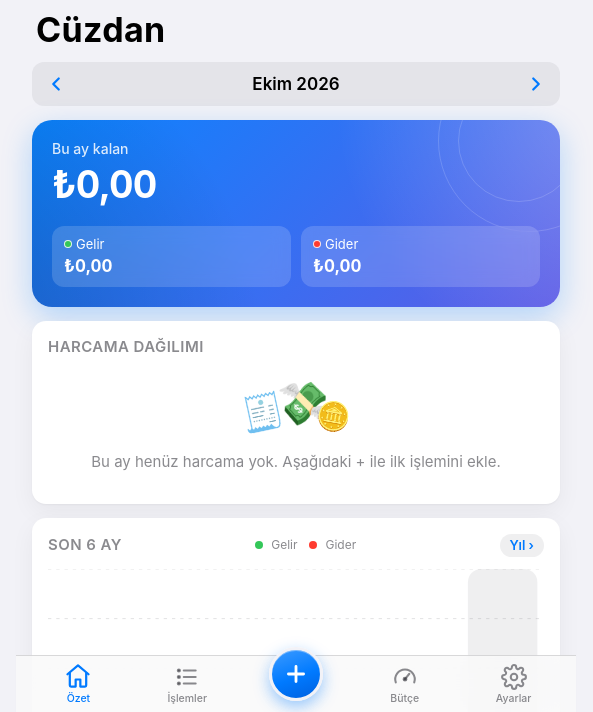
Cüzdan › ileri tarihli işlemi görmek için sonraki aylara geçilebilir
What coordinates should you click on to do the following:
click the button named "Sonraki ay"
I would click on:
 (536, 84)
Its box is [516,66,556,102].
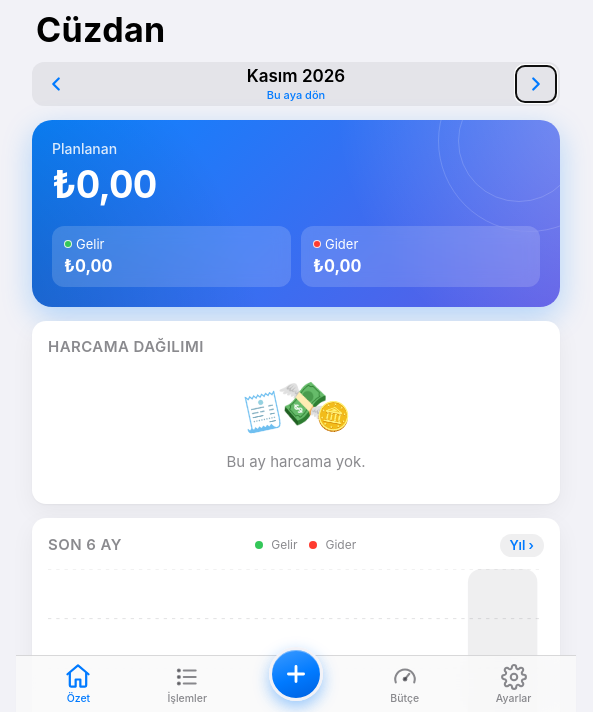
Result: the button "Kasım 2026 Bu aya dön" is shown at [76,66,516,102]
Result: the text "Planlanan" is shown at [52,140,117,157]
